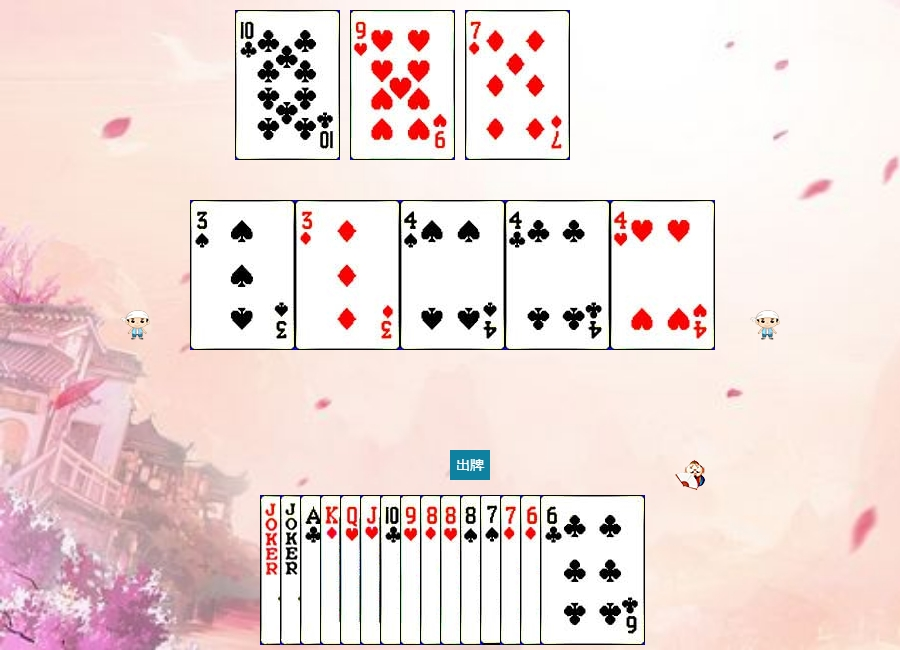10~2: (235, 10, 340, 160), (380, 495, 485, 645)
11~3: (360, 495, 465, 645)
12~3: (340, 495, 445, 645)
13~1: (320, 495, 425, 645)
14~2: (300, 495, 405, 645)
17~3: (280, 495, 385, 645)
18~4: (260, 495, 365, 645)
3~1: (295, 200, 400, 350)
3~4: (190, 200, 295, 350)
4~2: (505, 200, 610, 350)
4~3: (610, 200, 715, 350)
4~4: (400, 200, 505, 350)
6~1: (520, 495, 625, 645)
6~2: (540, 495, 645, 645)
7~1: (465, 10, 570, 160), (500, 495, 605, 645)
7~4: (480, 495, 585, 645)
8~1: (420, 495, 525, 645)
8~3: (440, 495, 545, 645)
8~4: (460, 495, 565, 645)
9~3: (350, 10, 455, 160), (400, 495, 505, 645)
